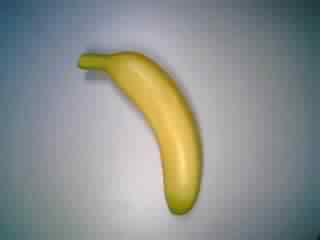banana: (73, 46, 212, 218)
